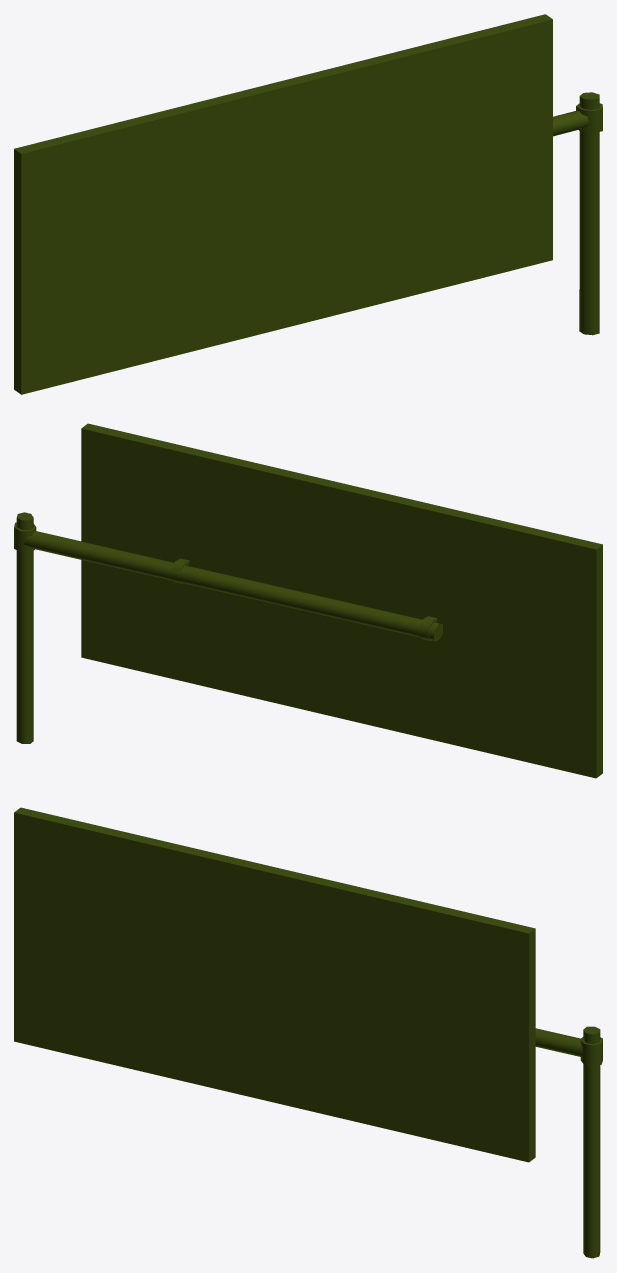
Rendered from T2_SpeedSigns4R_M.fbx.
3 views of the same model, one above another, from view 1: azimuth 30°, elevation 25°; view 2: azimuth 150°, elevation 25°; view 3: azimuth 330°, elevation 25° (orthographic). The views are drawn at different scales.
Visible parts, largest first — view 1: T2_SpeedSigns4R; view 2: T2_SpeedSigns4R; view 3: T2_SpeedSigns4R.
Part boxes in pixels (x1,y1,x2,y2): T2_SpeedSigns4R: (14, 14, 602, 394); T2_SpeedSigns4R: (14, 423, 602, 778); T2_SpeedSigns4R: (14, 807, 602, 1258).
Size of the model in its own units: 0.9155 by 0.489 by 0.069.
